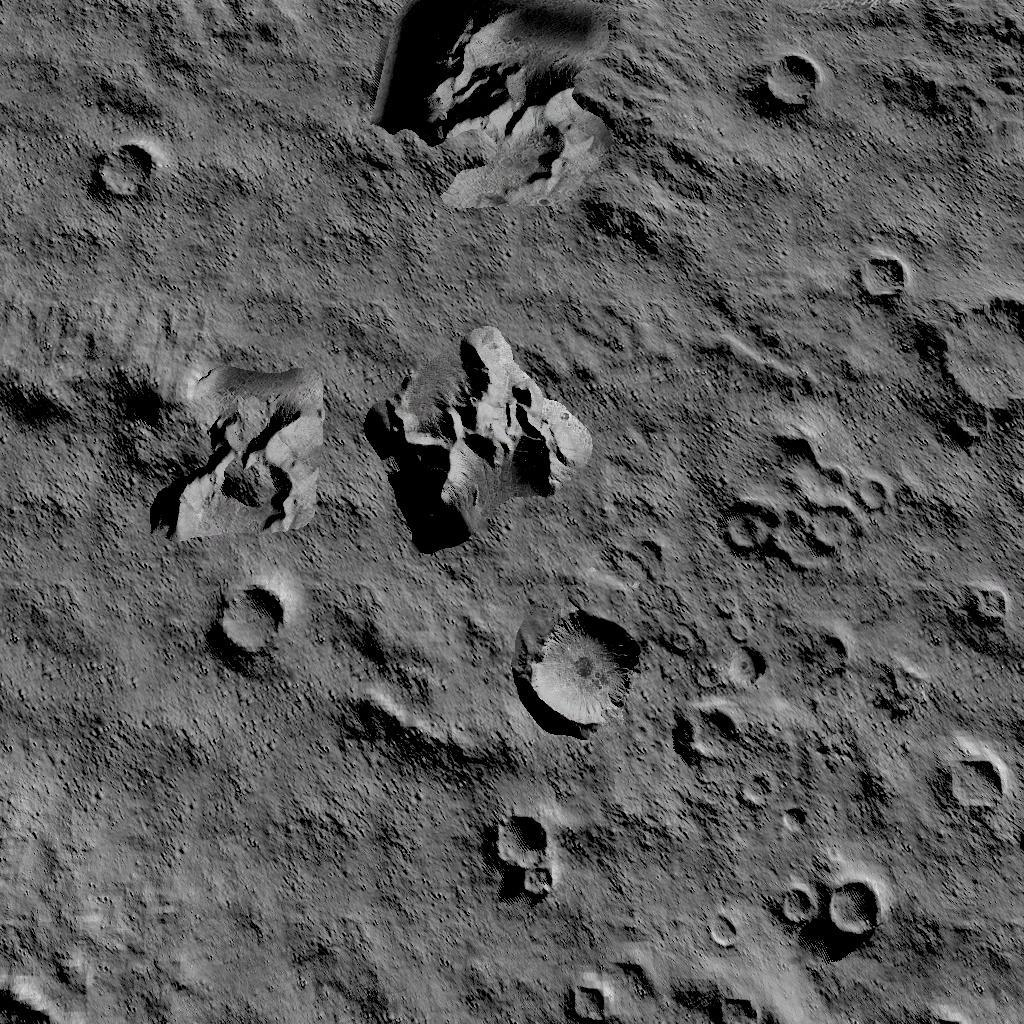Boulders: (381, 0, 708, 253), (0, 300, 326, 533), (366, 330, 593, 553)
Crater: (518, 610, 646, 730), (941, 292, 1024, 458), (486, 805, 560, 905), (778, 878, 886, 942), (214, 580, 290, 663), (941, 750, 1008, 820), (678, 702, 746, 770), (758, 48, 826, 116), (91, 138, 158, 202), (856, 248, 913, 310), (561, 978, 613, 1024)
Plan surface: (0, 542, 203, 960), (218, 780, 476, 1024), (174, 0, 370, 288), (721, 142, 1024, 236)
